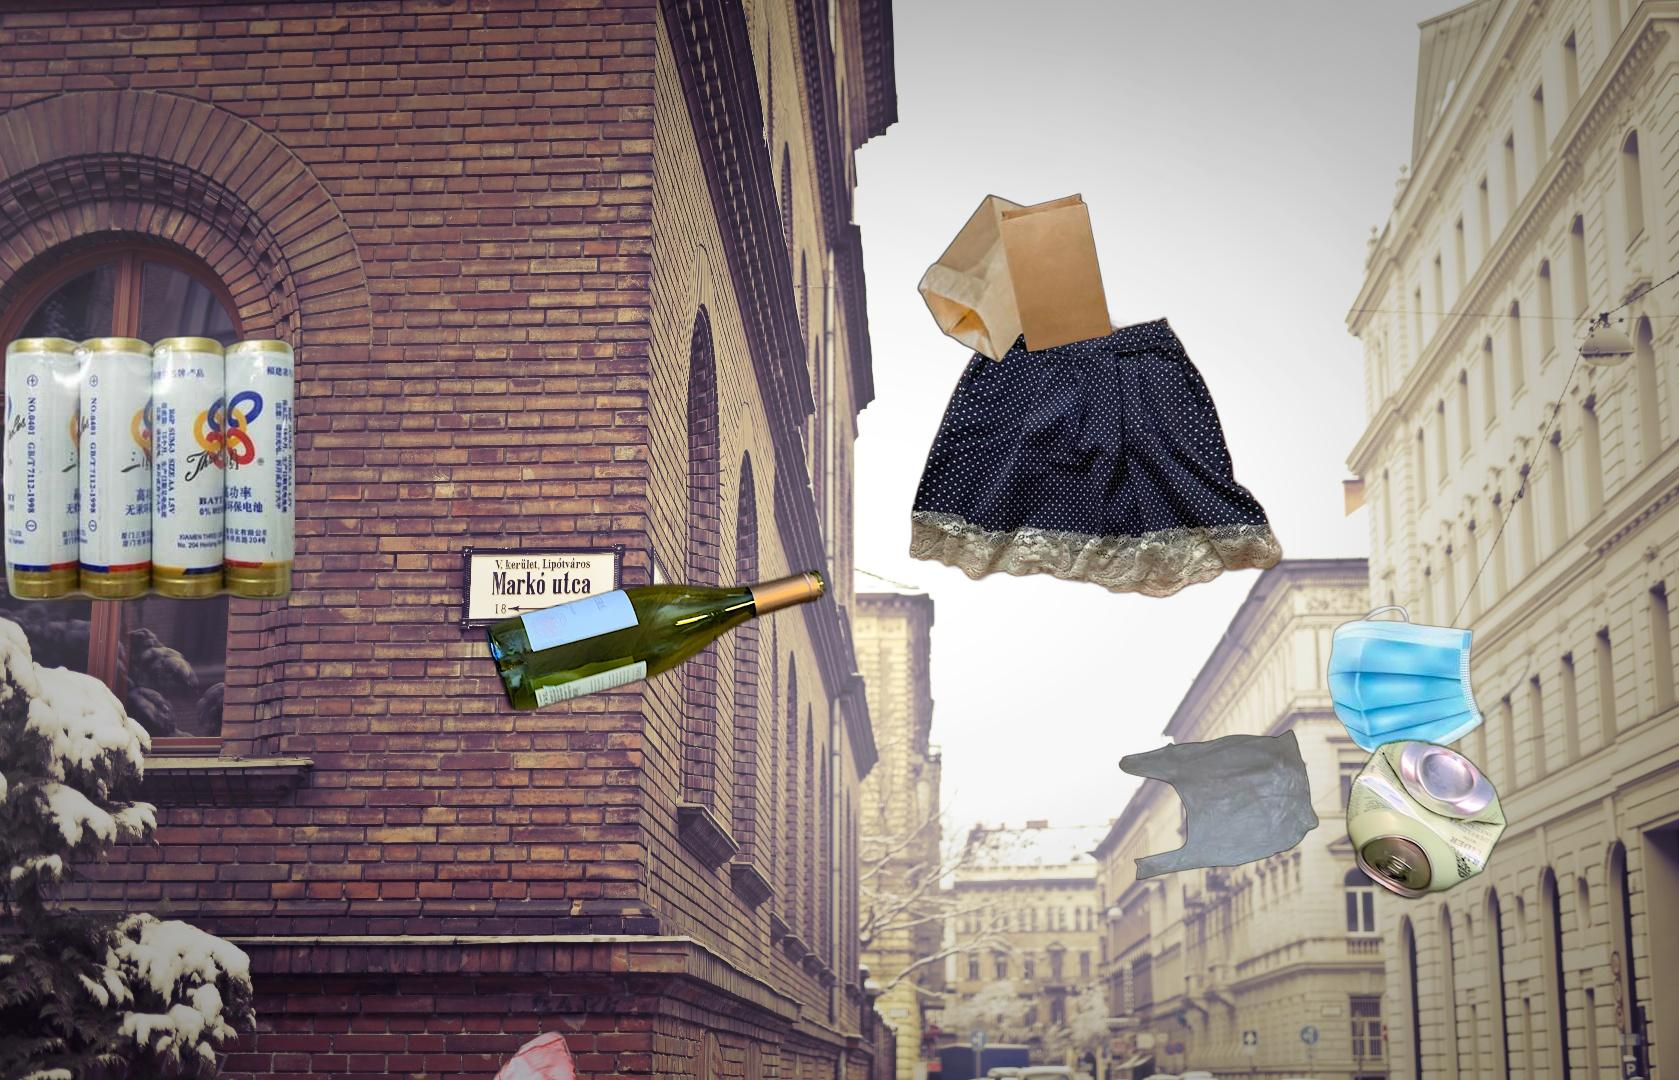battery: (2, 328, 295, 603)
clothes: (906, 302, 1287, 602)
glass: (478, 563, 830, 717)
metal-cans: (1342, 734, 1513, 906)
paper-bag: (917, 191, 1130, 366)
plastic-bag: (1116, 728, 1320, 882), (388, 956, 608, 1080)
trash: (1324, 603, 1535, 764)
